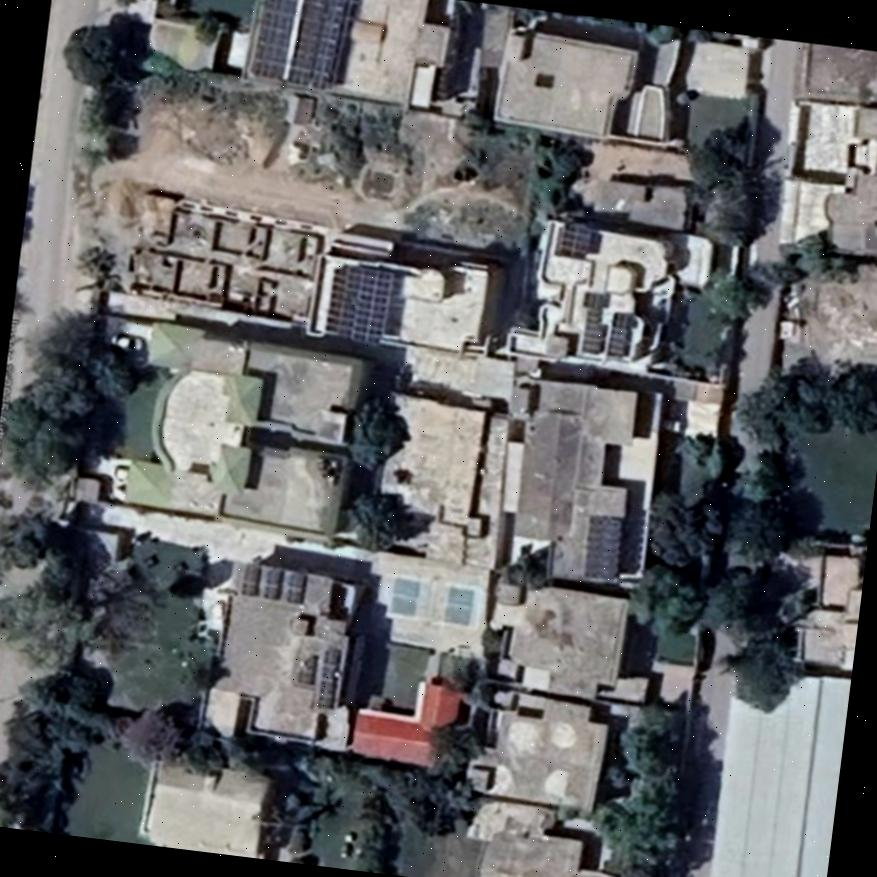Solarpanel: (251, 0, 351, 90), (326, 268, 393, 345), (556, 223, 593, 259), (286, 569, 309, 601), (237, 563, 257, 597), (265, 567, 286, 598)
